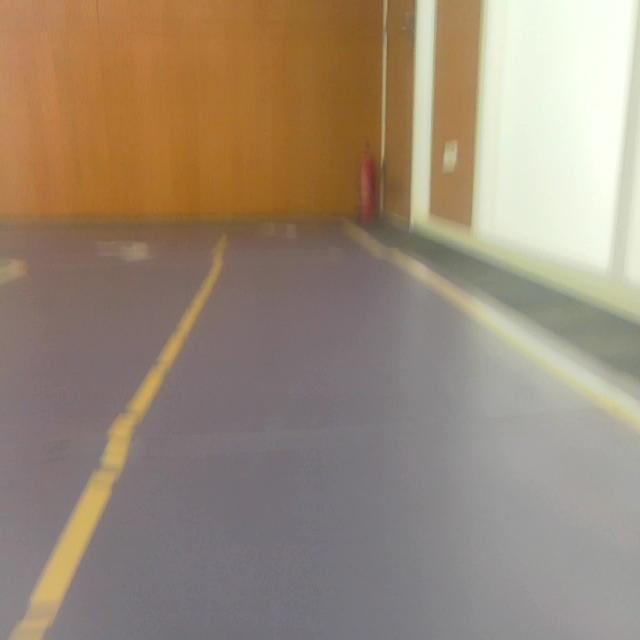left_lane: (9, 241, 227, 640)
right_lane: (350, 235, 640, 438)
